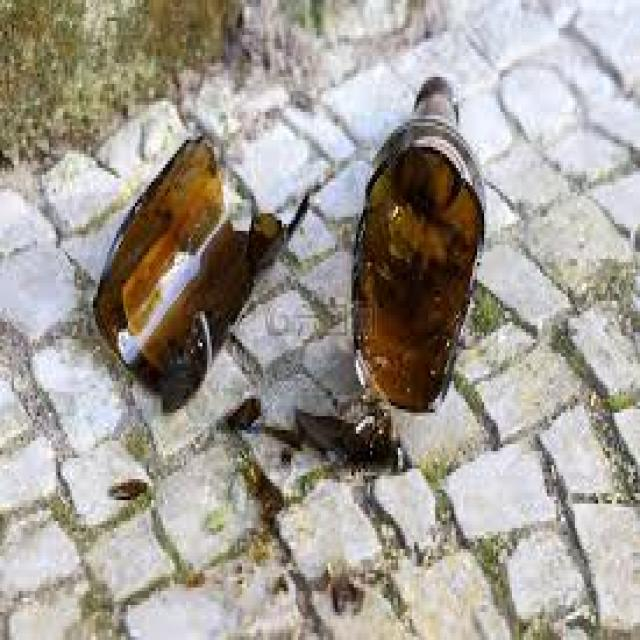glass: (91, 130, 310, 410), (349, 74, 484, 409), (296, 406, 396, 465), (242, 458, 279, 521), (326, 567, 365, 609), (224, 395, 259, 430), (270, 423, 305, 451), (107, 476, 149, 497), (268, 570, 289, 591), (247, 539, 270, 556), (184, 567, 200, 581)
